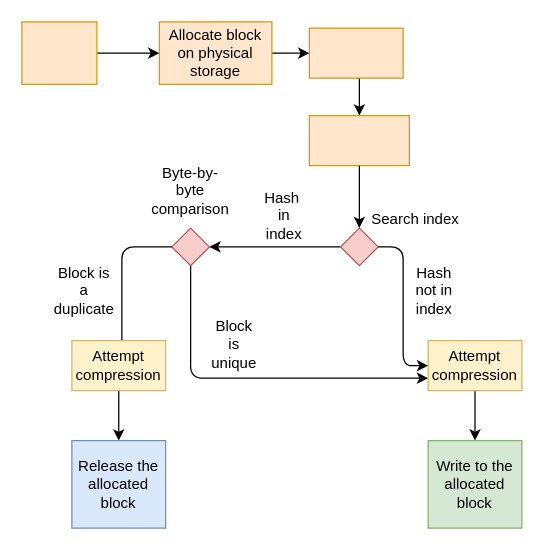
This 544x550 diagram has some shape labels left out. Each missing label, with the centre of its shape:
Acknowledge: pixel 355 52
Compute Hash: pixel 358 140
Receive write request: pixel 59 52
